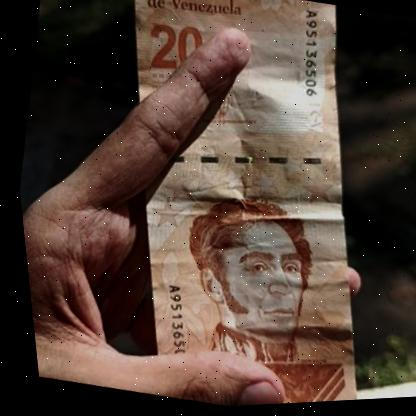vef_front: (48, 0, 416, 414)
